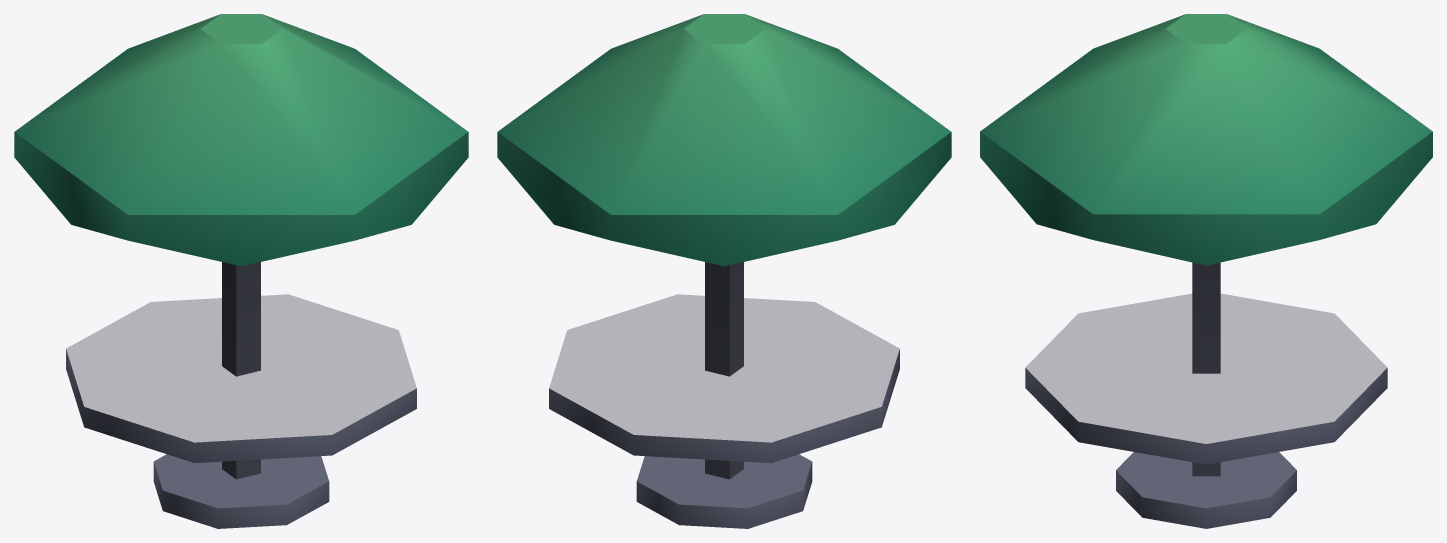
The model's file is detail-parasol-b.glb.
3 renders of one model, left to right at view 1: azimuth 30°, elevation 25°; view 2: azimuth 150°, elevation 25°; view 3: azimuth 270°, elevation 25°, orthographic.
Parts seen in each view (by area): view 1: detail-parasol-b; view 2: detail-parasol-b; view 3: detail-parasol-b.
Boxes of the visible parts, box(x1,y1,x2,y2) form: detail-parasol-b: box(14, 14, 468, 528); detail-parasol-b: box(497, 14, 951, 528); detail-parasol-b: box(980, 14, 1432, 528).
Size of the model in its own units: 0.3464 by 0.45 by 0.4.
